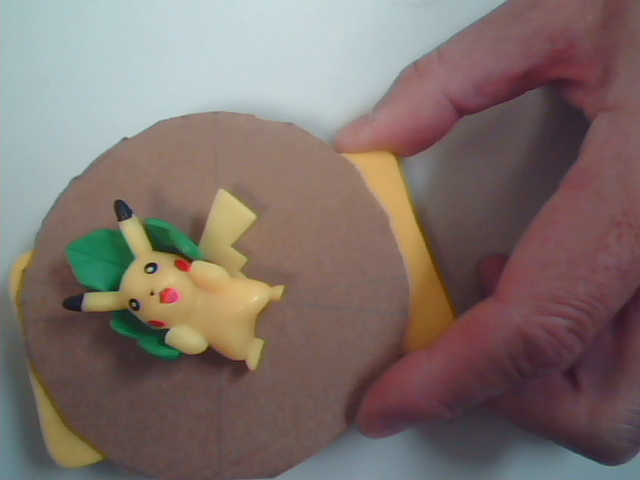pikachu: (51, 157, 304, 410)
